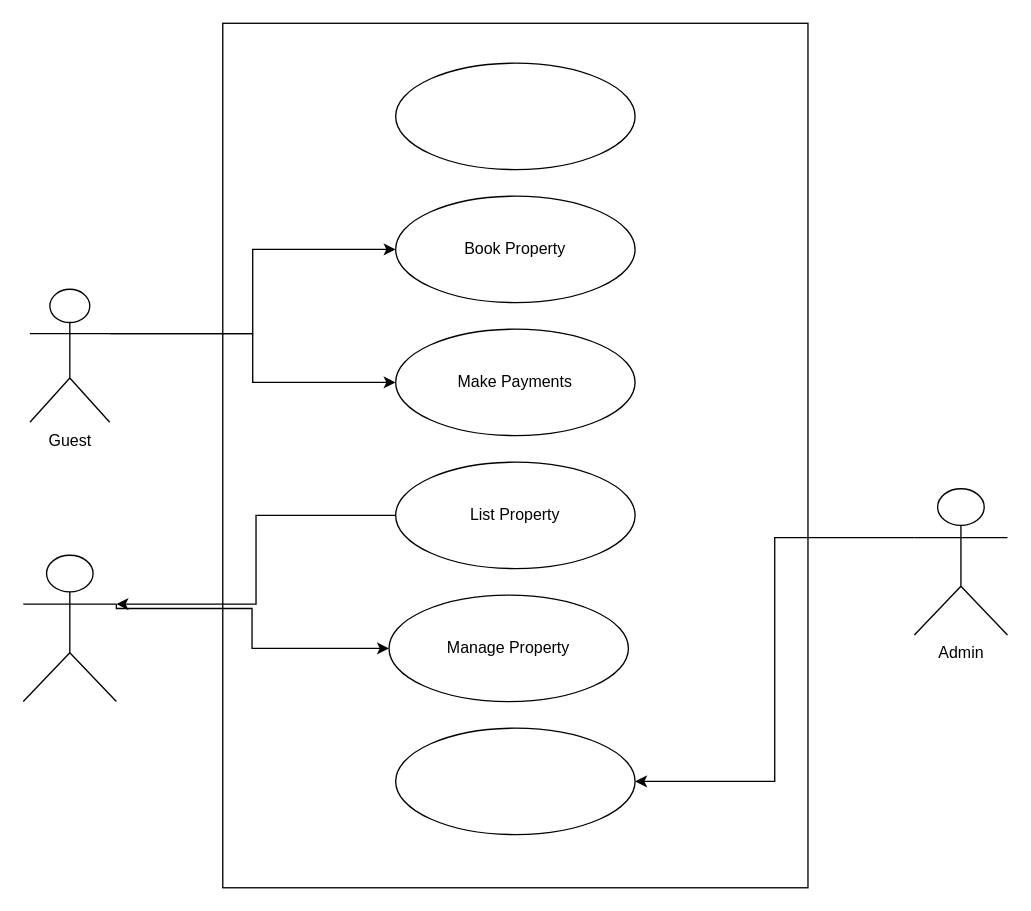
Some shapes in this 1031 by 911 pixel diagram are drawn without their labels. Each missing label, with the centre of its shape:
Host: the point at 69,628
Manage Users: the point at 514,781
Register: the point at 514,116
